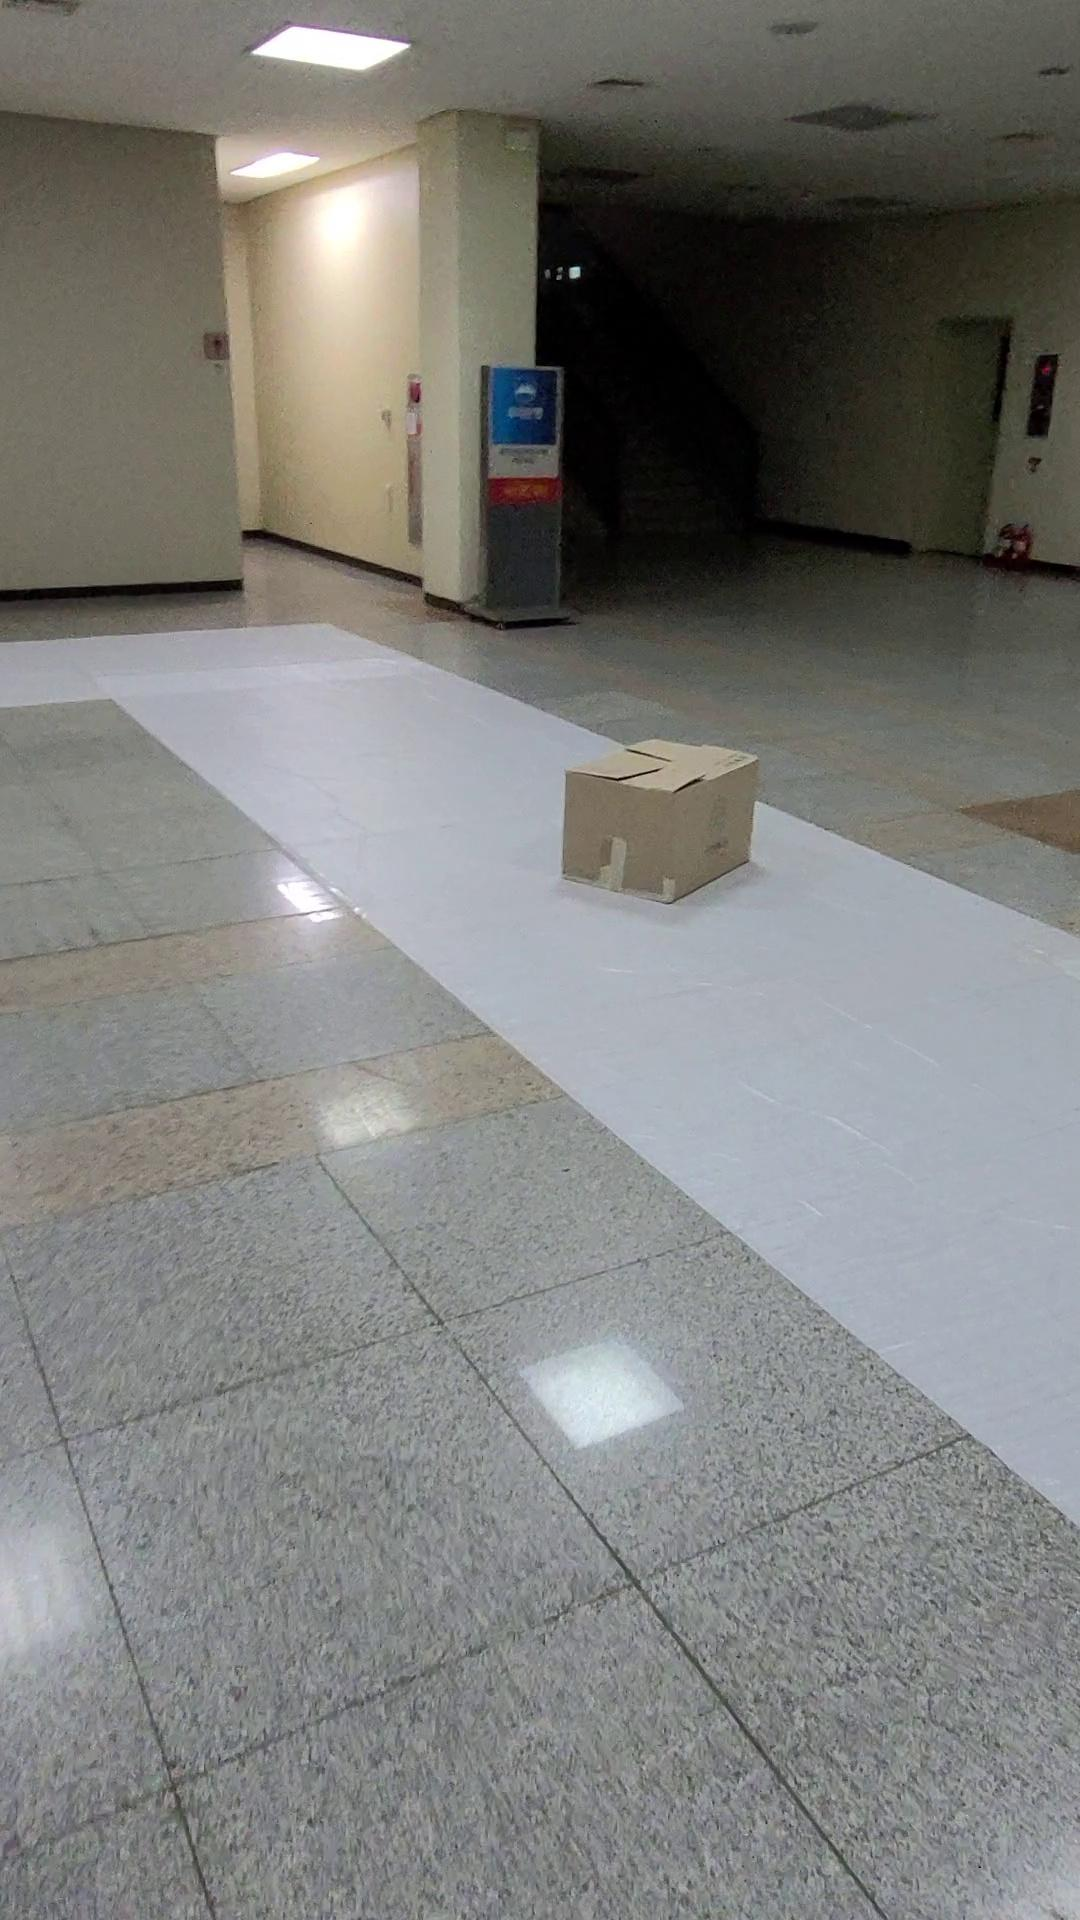Box: (553, 725, 764, 910)
